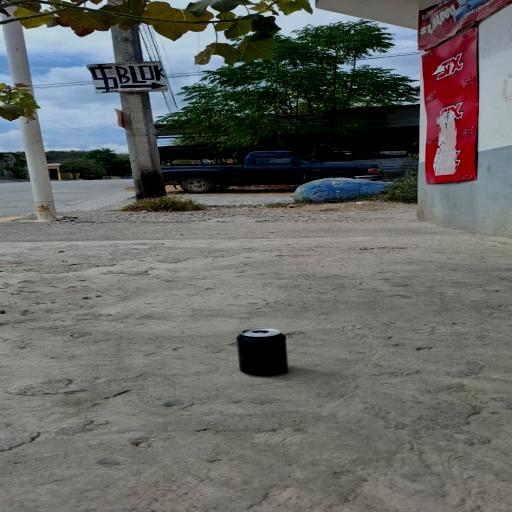LATA: (224, 326, 305, 382)
